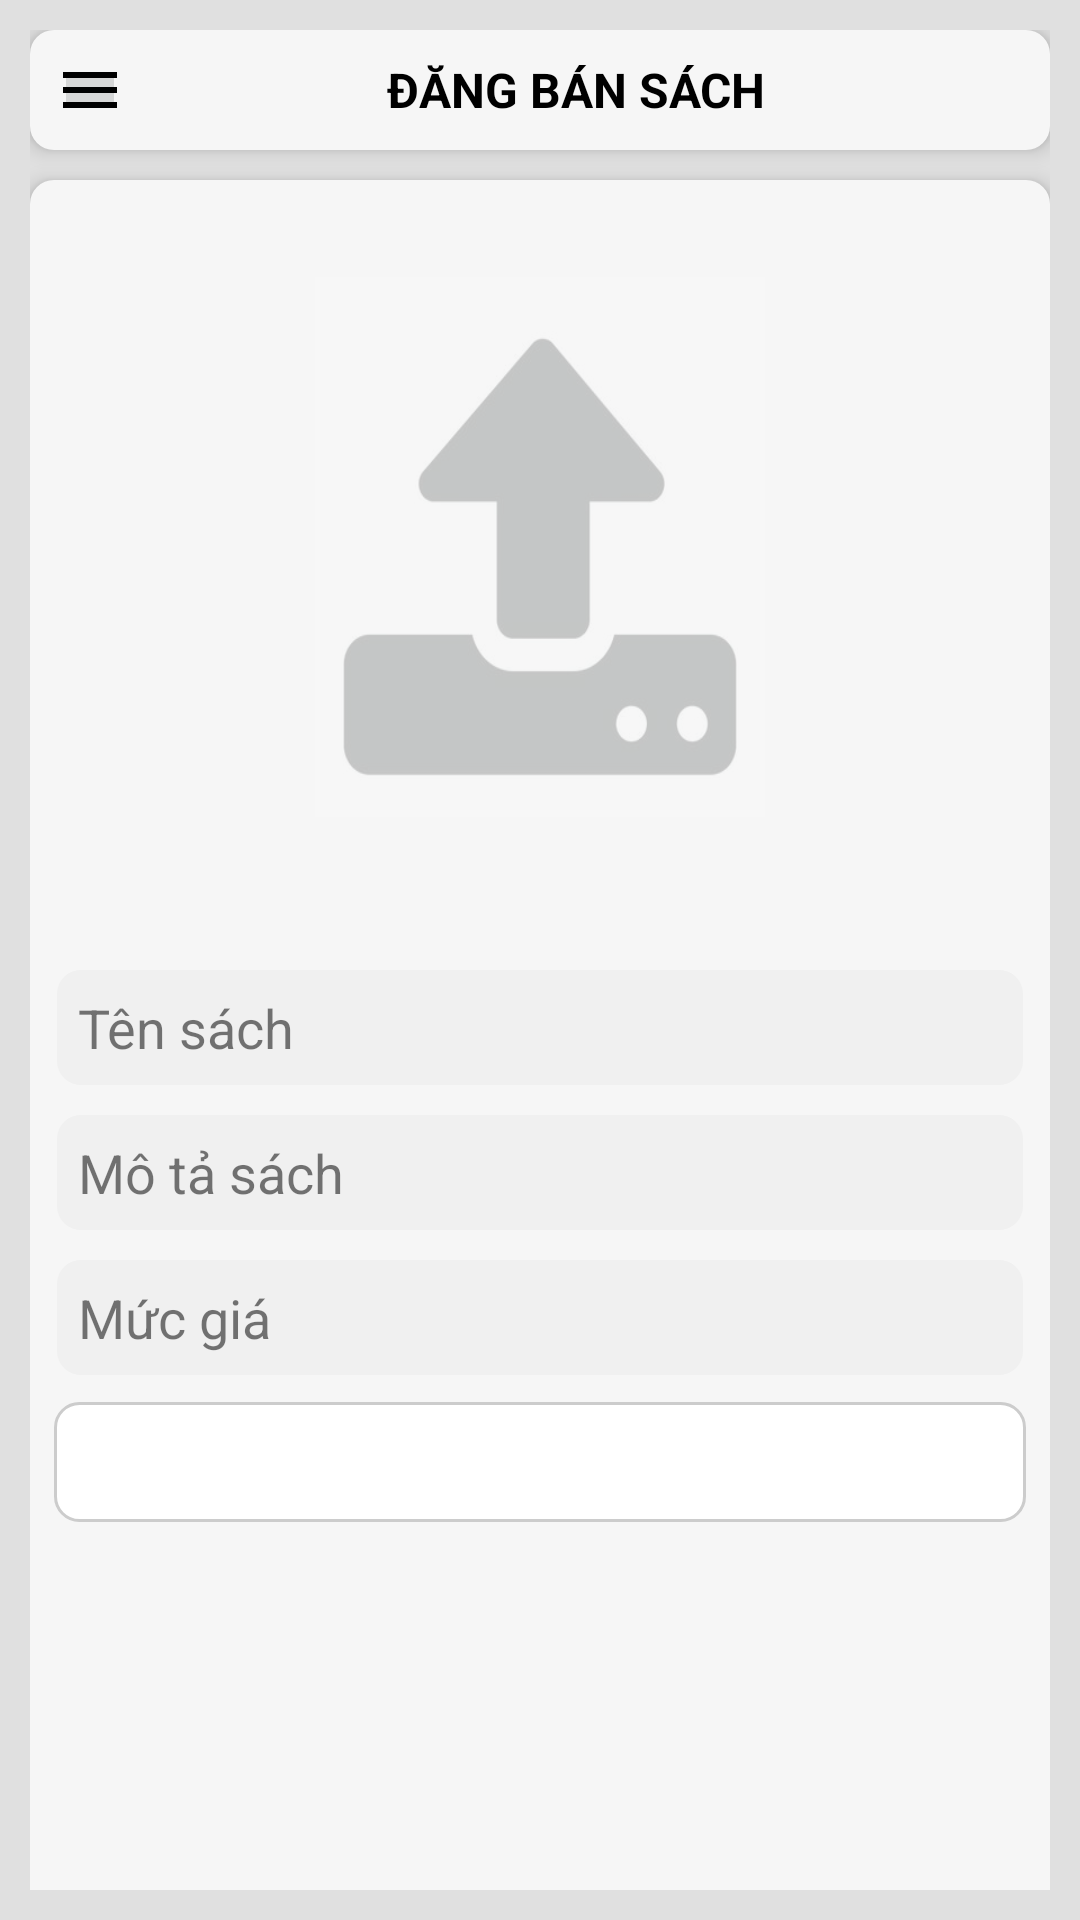

Icon bounding boxes for this 1080 × 1920 phone screenshot, format (x1, y1, x2, y2):
Menu: (63, 72, 117, 108)
